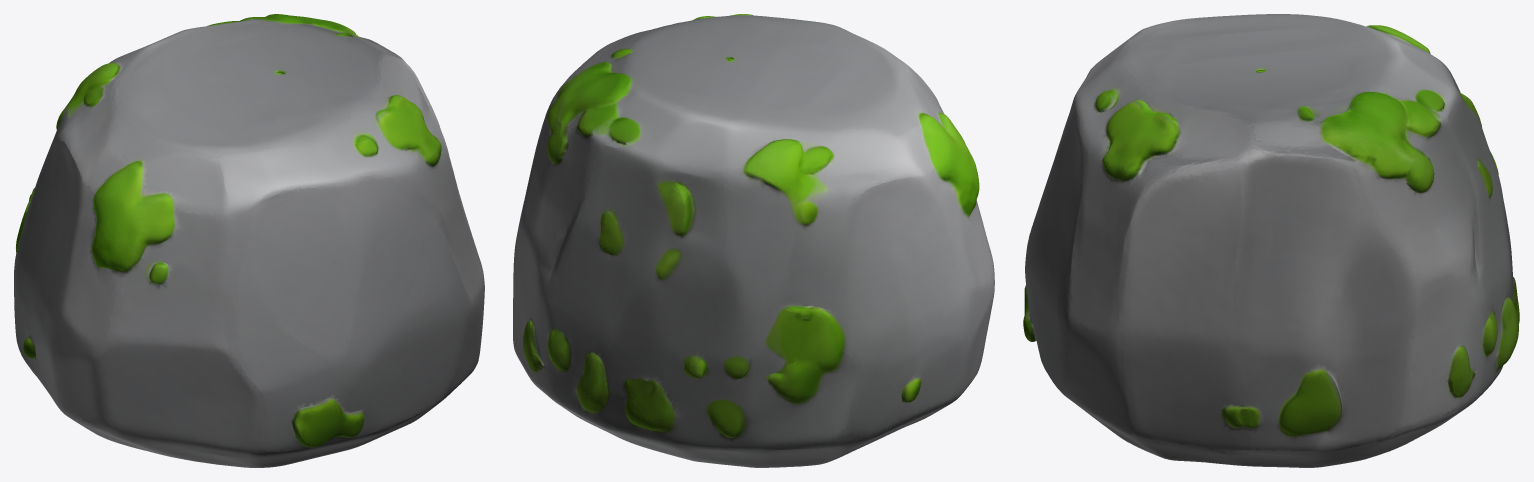
Rendered from nat_rock_01.glb.
The picture shows the model from 3 angles, left to right: view 1: azimuth 30°, elevation 25°; view 2: azimuth 150°, elevation 25°; view 3: azimuth 270°, elevation 25°; orthographic projection. The views are drawn at different scales.
Parts seen in each view (by area): view 1: geometry_0; view 2: geometry_0; view 3: geometry_0.
Boxes of the visible parts, <box> form: geometry_0: <box>14,14,484,467</box>; geometry_0: <box>513,14,994,467</box>; geometry_0: <box>1023,14,1519,467</box>.
Size of the model in its own units: 0.15 by 0.1159 by 0.1496.
Materials: 1 (1 with a texture image).
